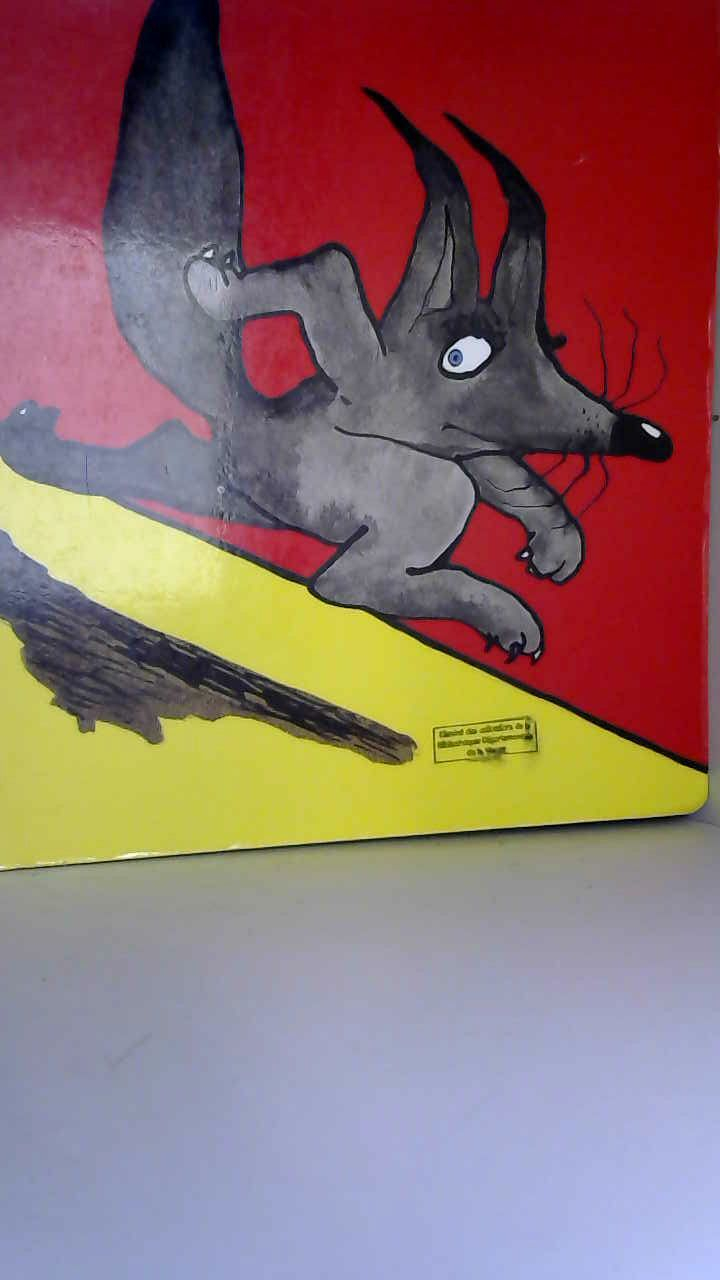book: (0, 0, 720, 889)
